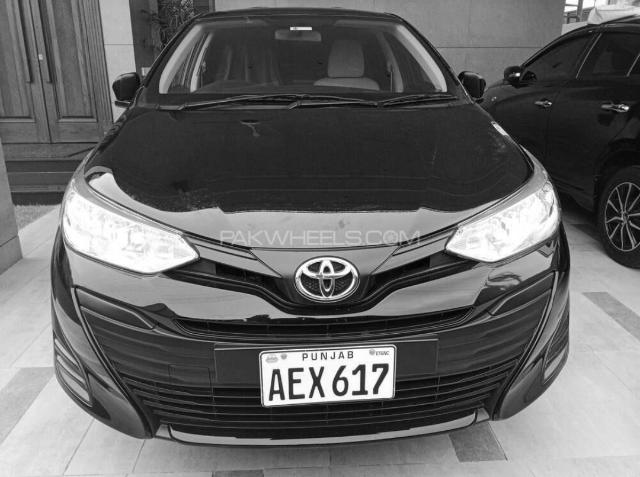Number: (272, 360, 394, 402)
